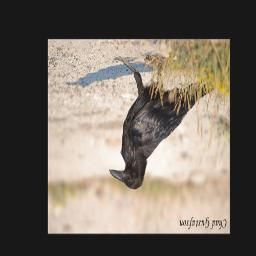Crow: (109, 55, 218, 190)
